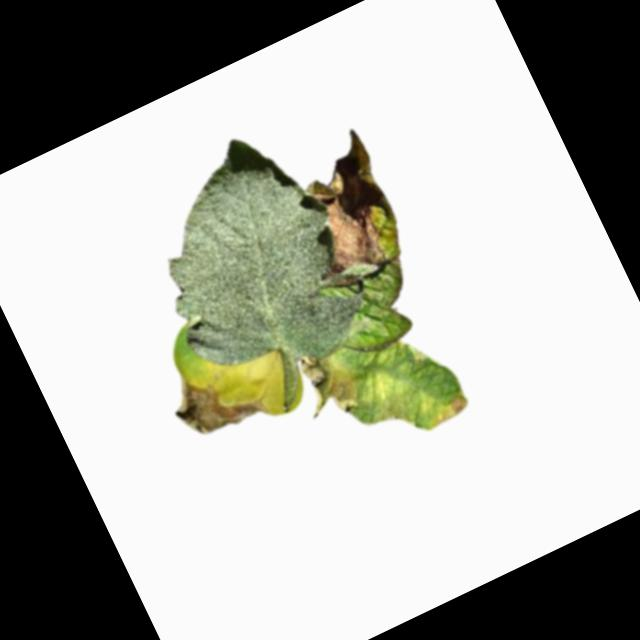Late_blight: (295, 164, 396, 288), (160, 350, 272, 452), (285, 339, 370, 430), (424, 389, 473, 430)
